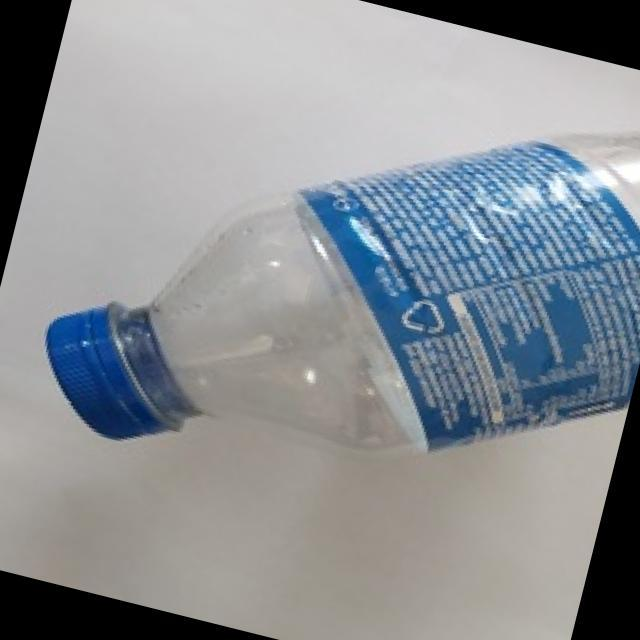good: (29, 118, 640, 467)
